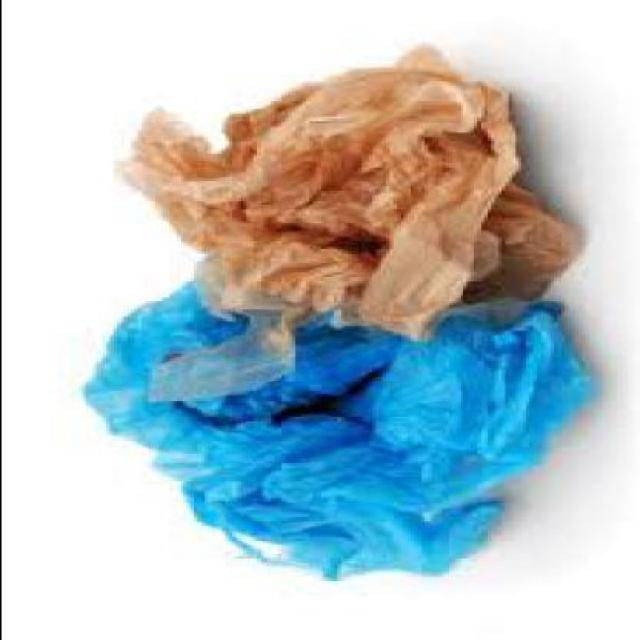plastic: (118, 44, 574, 402), (79, 277, 598, 577)
